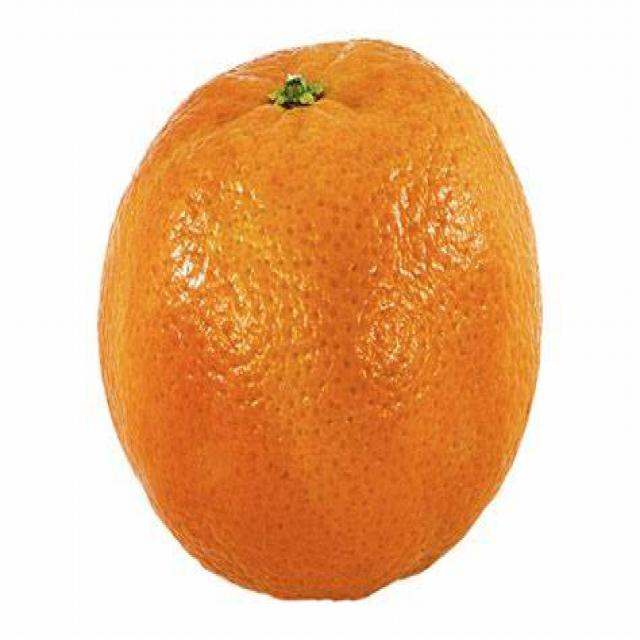Orange: (100, 42, 546, 603)
